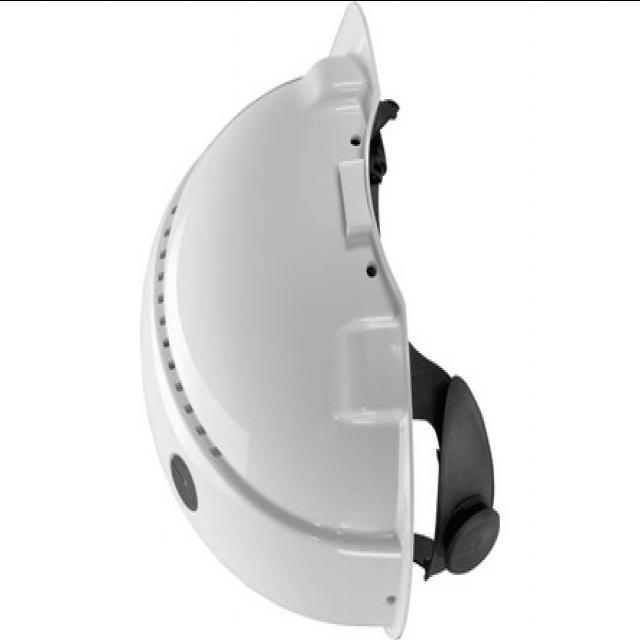safety_helmet: (140, 0, 503, 640)
